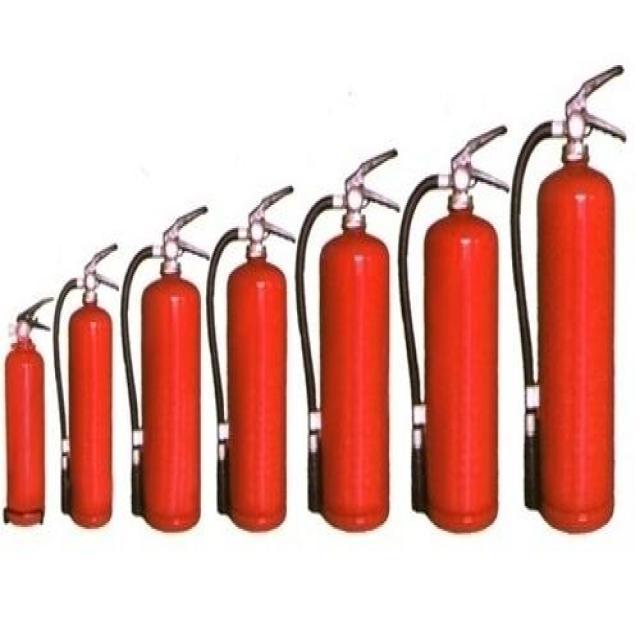fire_extinguisher: (506, 59, 628, 538), (396, 118, 512, 532), (293, 144, 403, 534), (202, 180, 298, 533), (116, 201, 212, 535), (50, 238, 120, 530), (0, 293, 56, 530)
